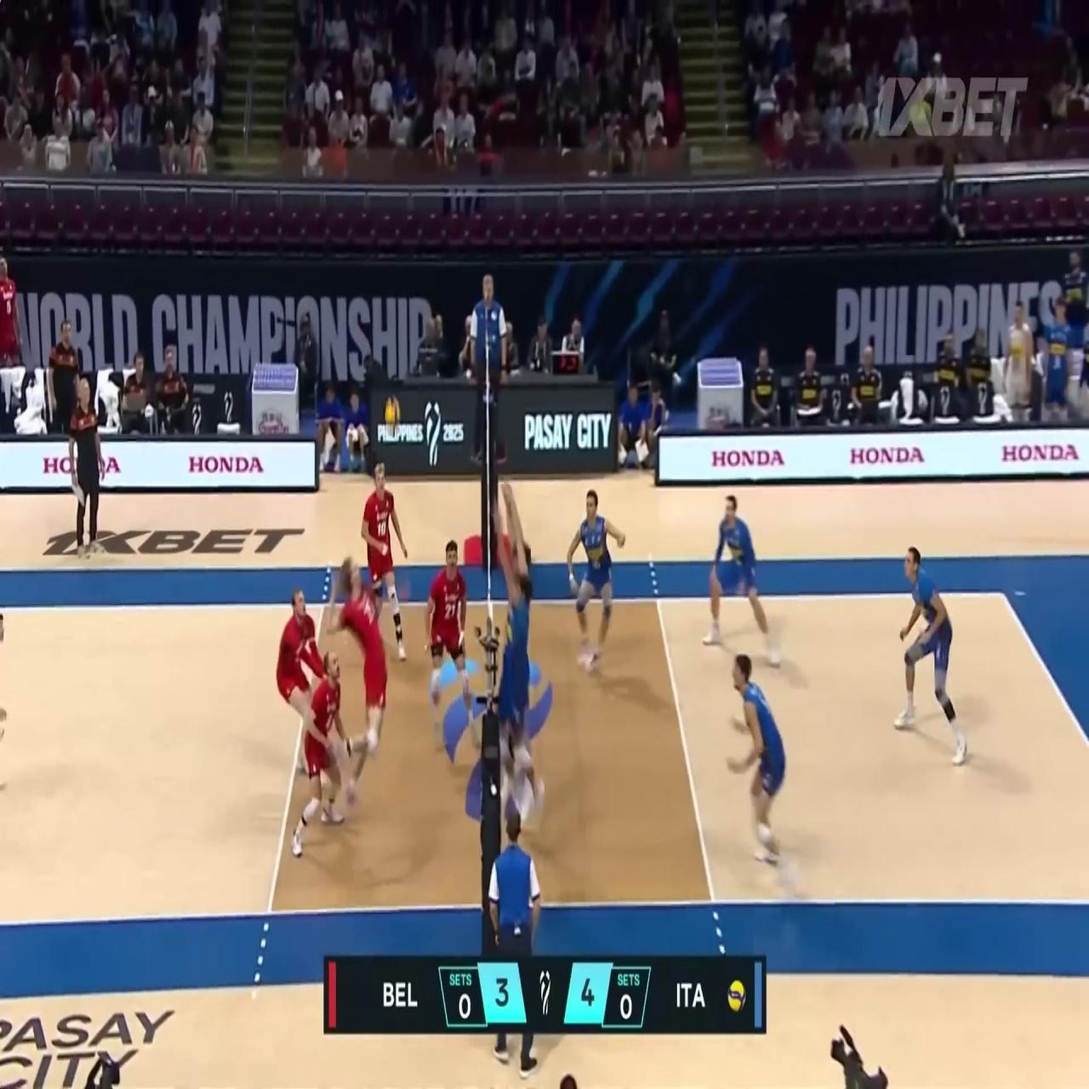ball: (384, 395, 401, 429)
